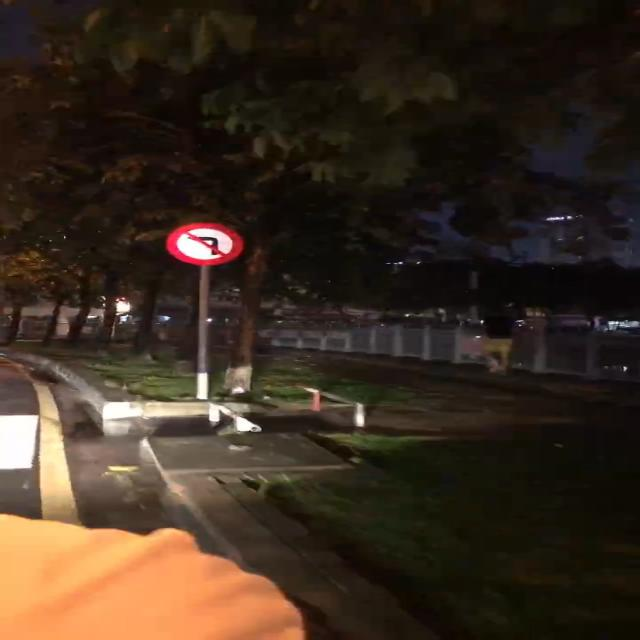Bien bao cam re trai: (159, 219, 253, 271)
